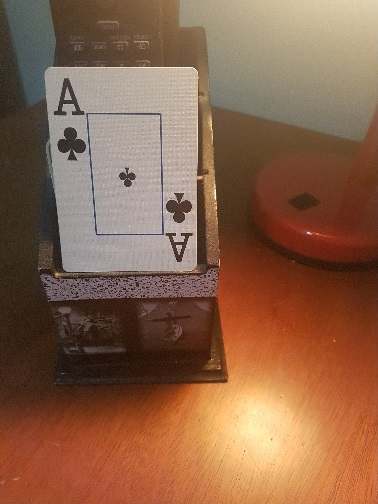ace: (44, 65, 200, 271)
